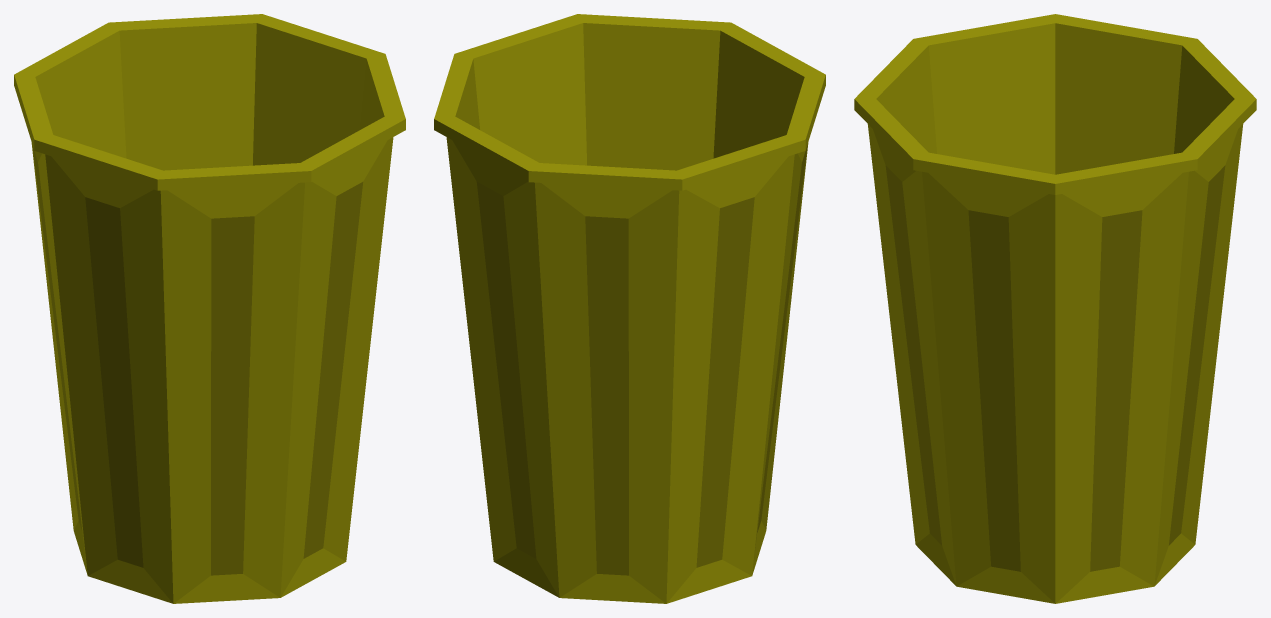
File: Yellow.fbx
3 views of the same model, side by side, from view 1: azimuth 30°, elevation 25°; view 2: azimuth 150°, elevation 25°; view 3: azimuth 270°, elevation 25° (orthographic).
Parts seen in each view (by area): view 1: Cylinder.001; view 2: Cylinder.001; view 3: Cylinder.001.
Part boxes in pixels (x1=…): Cylinder.001: x1=14, y1=14, x2=405, y2=603; Cylinder.001: x1=434, y1=14, x2=825, y2=603; Cylinder.001: x1=854, y1=14, x2=1256, y2=603.
Size of the model in its own units: 80.89 by 98.94 by 80.89.
